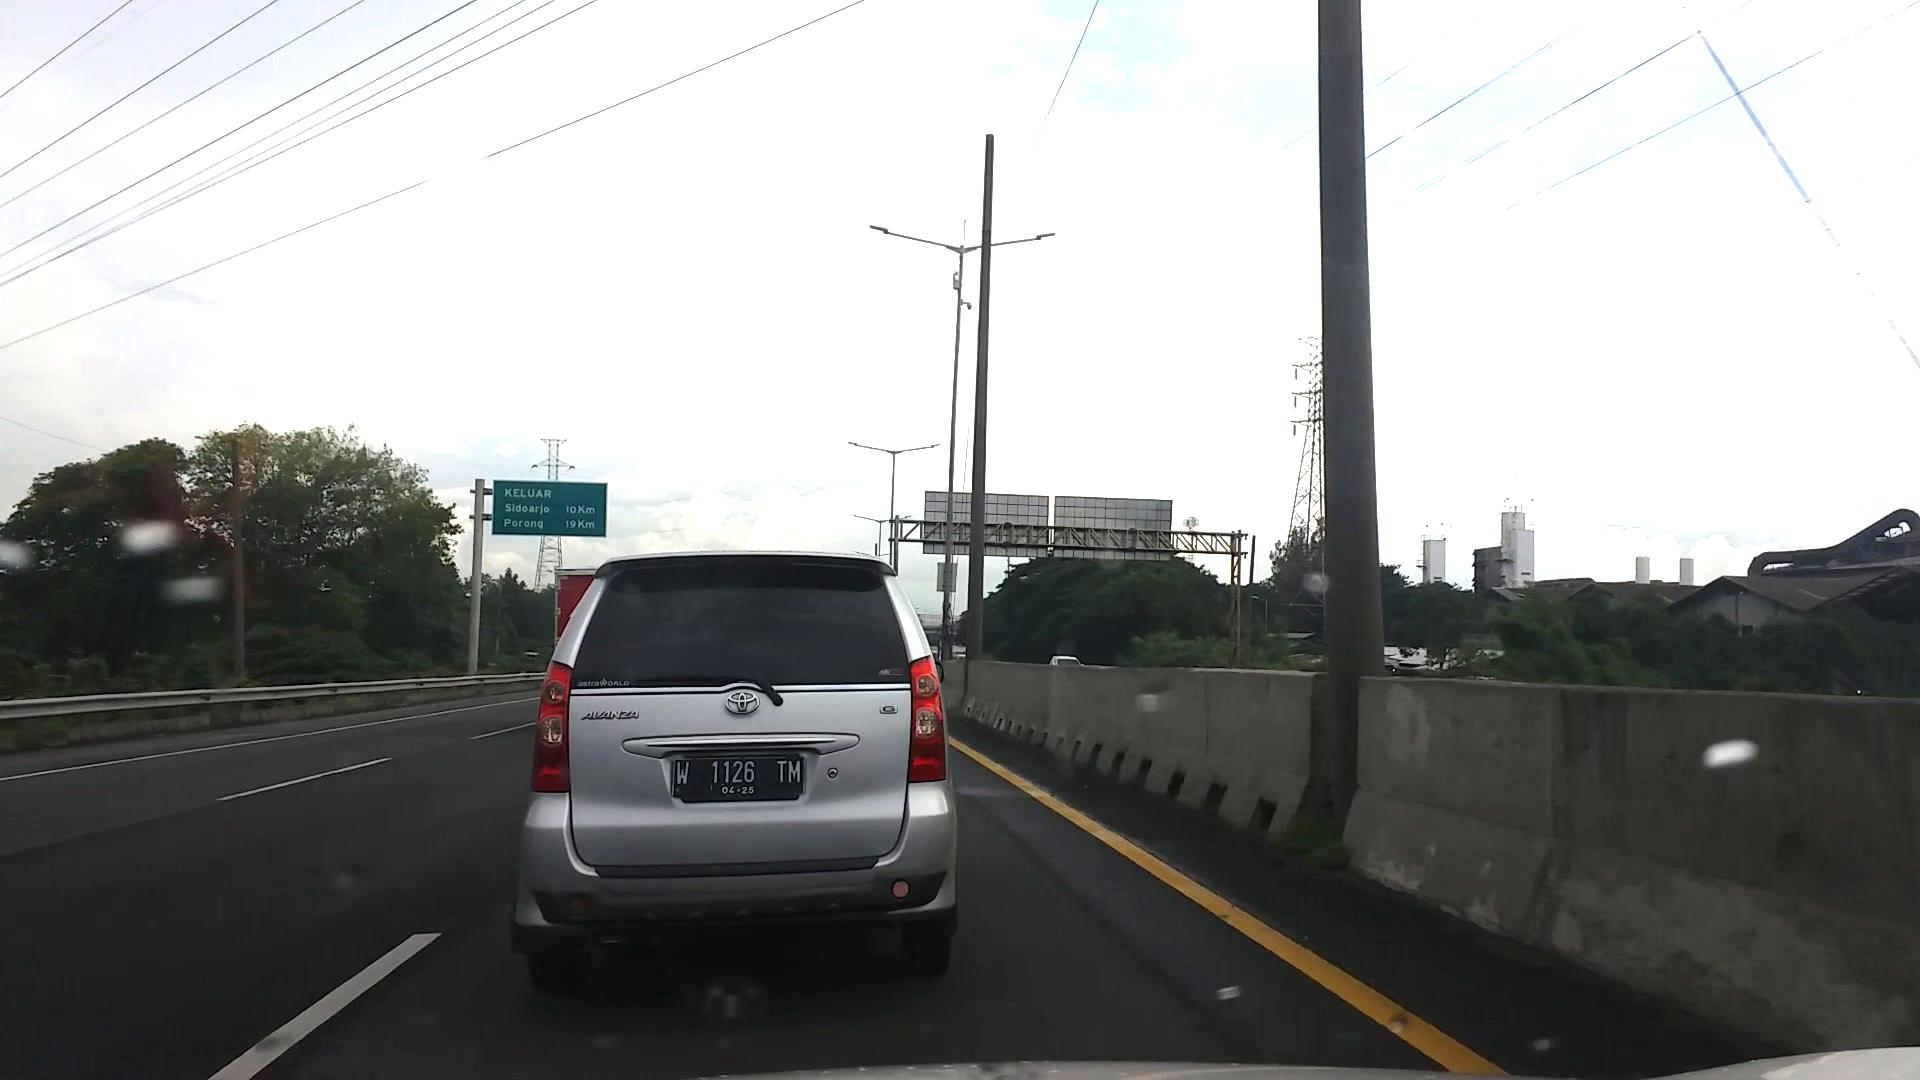plate_positive: (673, 756, 804, 800)
